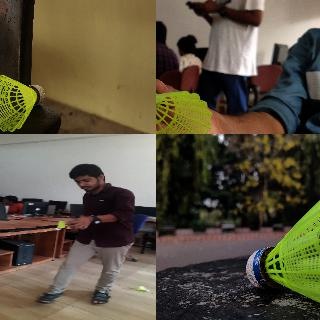shuttlecock: (245, 184, 319, 319), (0, 74, 45, 132), (156, 88, 210, 133), (55, 220, 68, 230)
